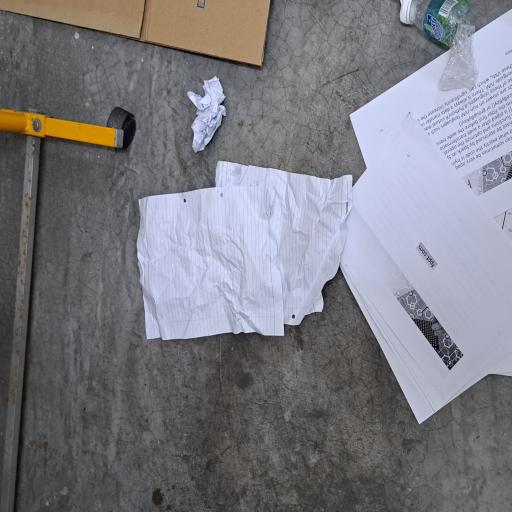cardboard: (336, 0, 384, 364)
paper: (129, 182, 260, 467), (65, 452, 378, 512), (270, 247, 327, 302)
